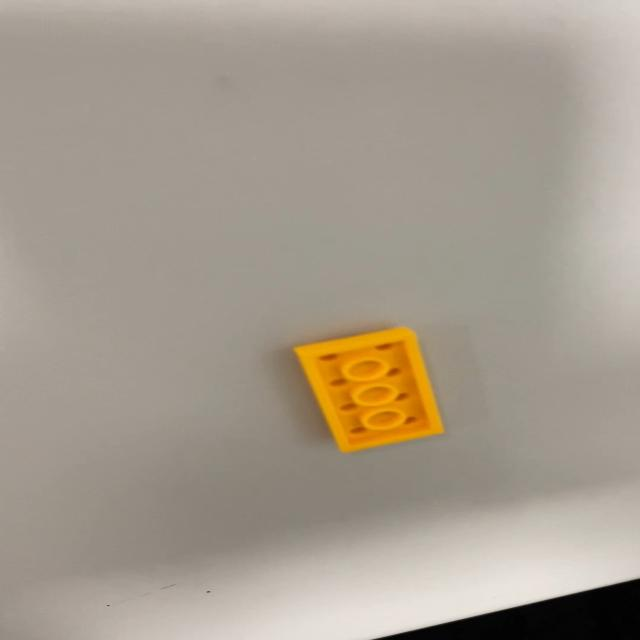C4x2x0: (289, 325, 444, 453)
